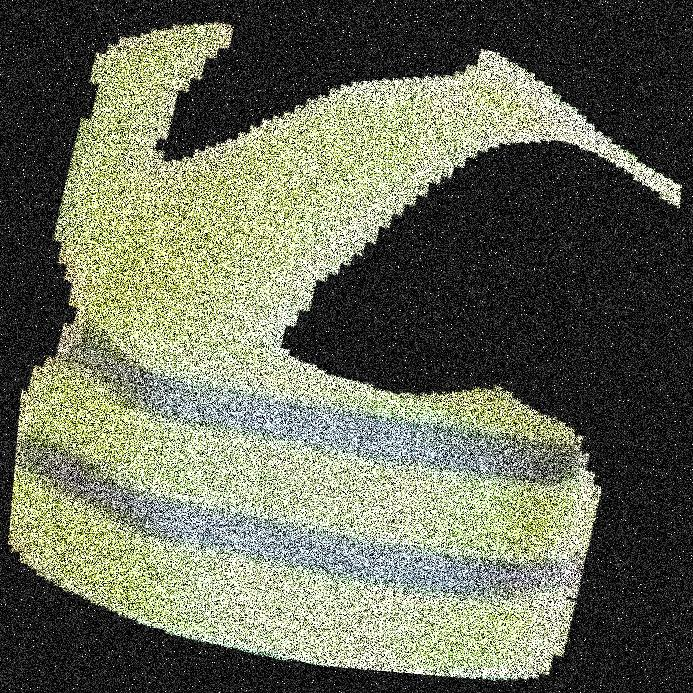Colete: (54, 0, 589, 692)
